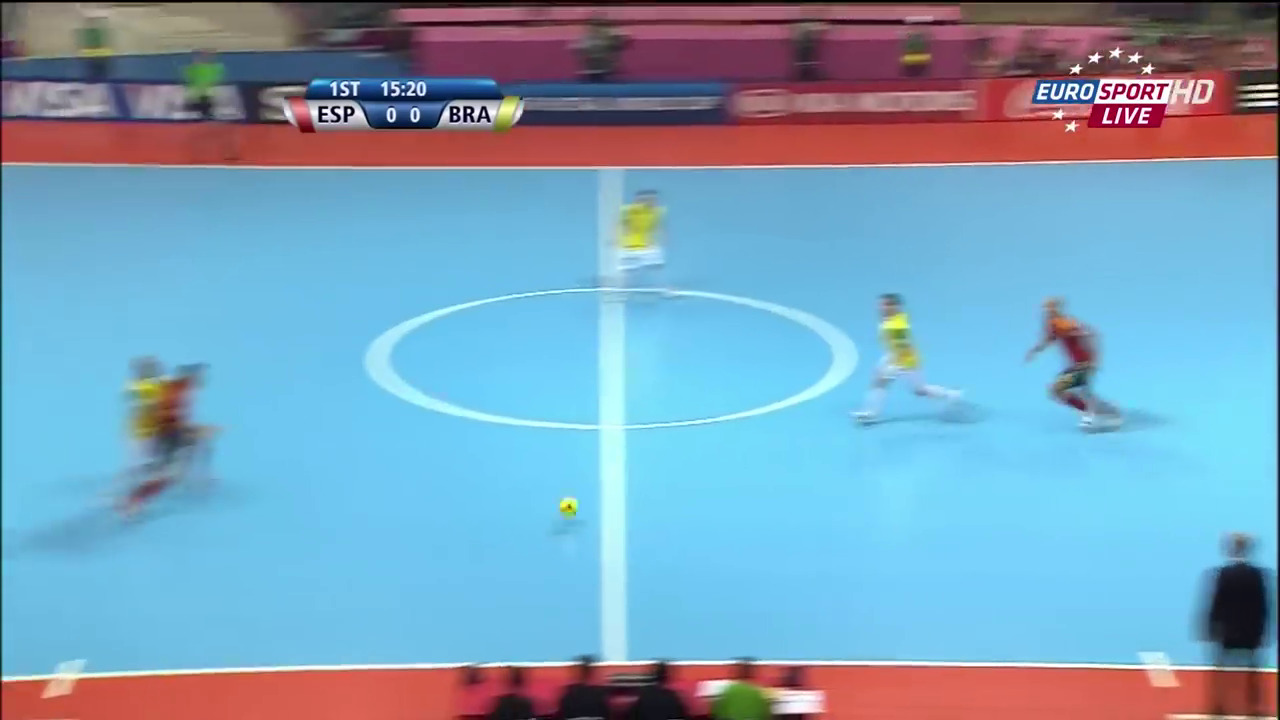ball: (554, 496, 579, 513)
person: (1017, 293, 1130, 434), (851, 293, 967, 424), (155, 362, 224, 511), (599, 190, 677, 300), (123, 358, 171, 470)
